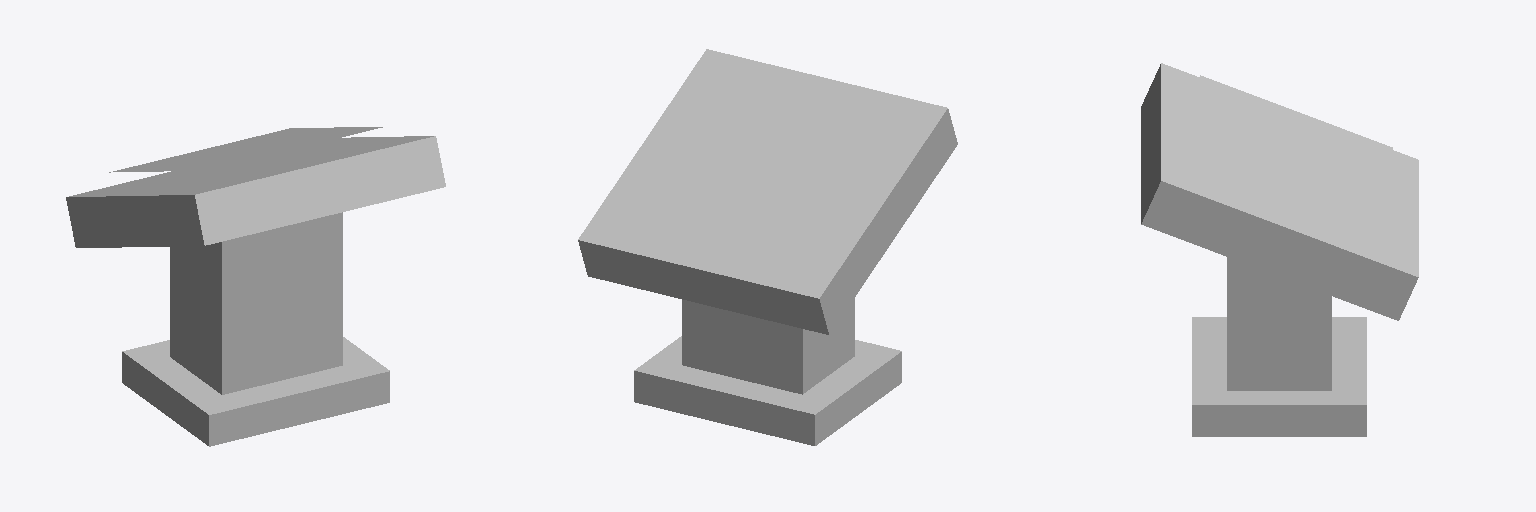
File: table.obj
The picture shows the model from 3 angles: view 1: azimuth 30°, elevation 25°; view 2: azimuth 150°, elevation 25°; view 3: azimuth 270°, elevation 25°; orthographic projection.
Parts seen in each view (by area): view 1: cube; view 2: cube; view 3: cube.
Boxes of the visible parts, <box> form: cube: <box>66,127,445,446</box>; cube: <box>578,49,957,445</box>; cube: <box>1141,63,1418,436</box>.
Size of the model in its own units: 16 by 17.3 by 15.93.